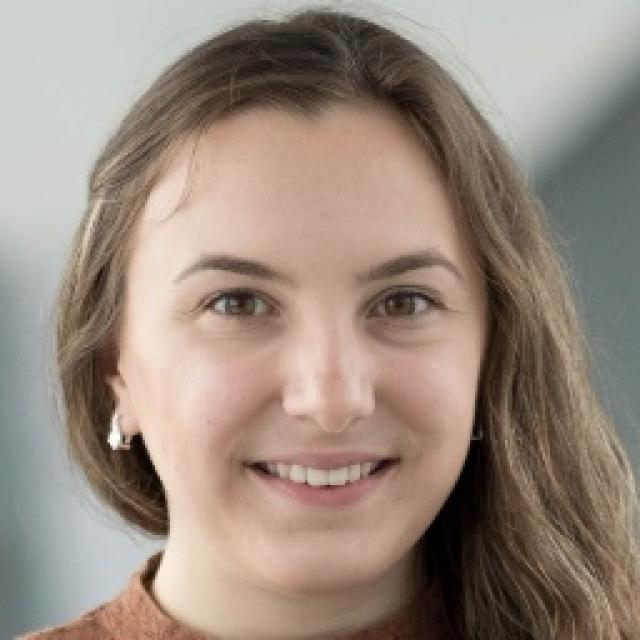earlobe: (113, 398, 140, 440)
eye: (203, 285, 282, 321), (364, 286, 440, 320)
nose: (281, 408, 386, 472)
